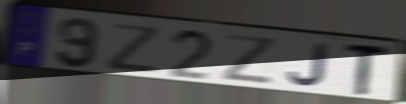2: (167, 27, 218, 81)
9: (55, 15, 101, 70)
J: (286, 42, 330, 89)
T: (343, 43, 393, 98)
Z: (220, 32, 278, 86), (105, 21, 163, 75)
